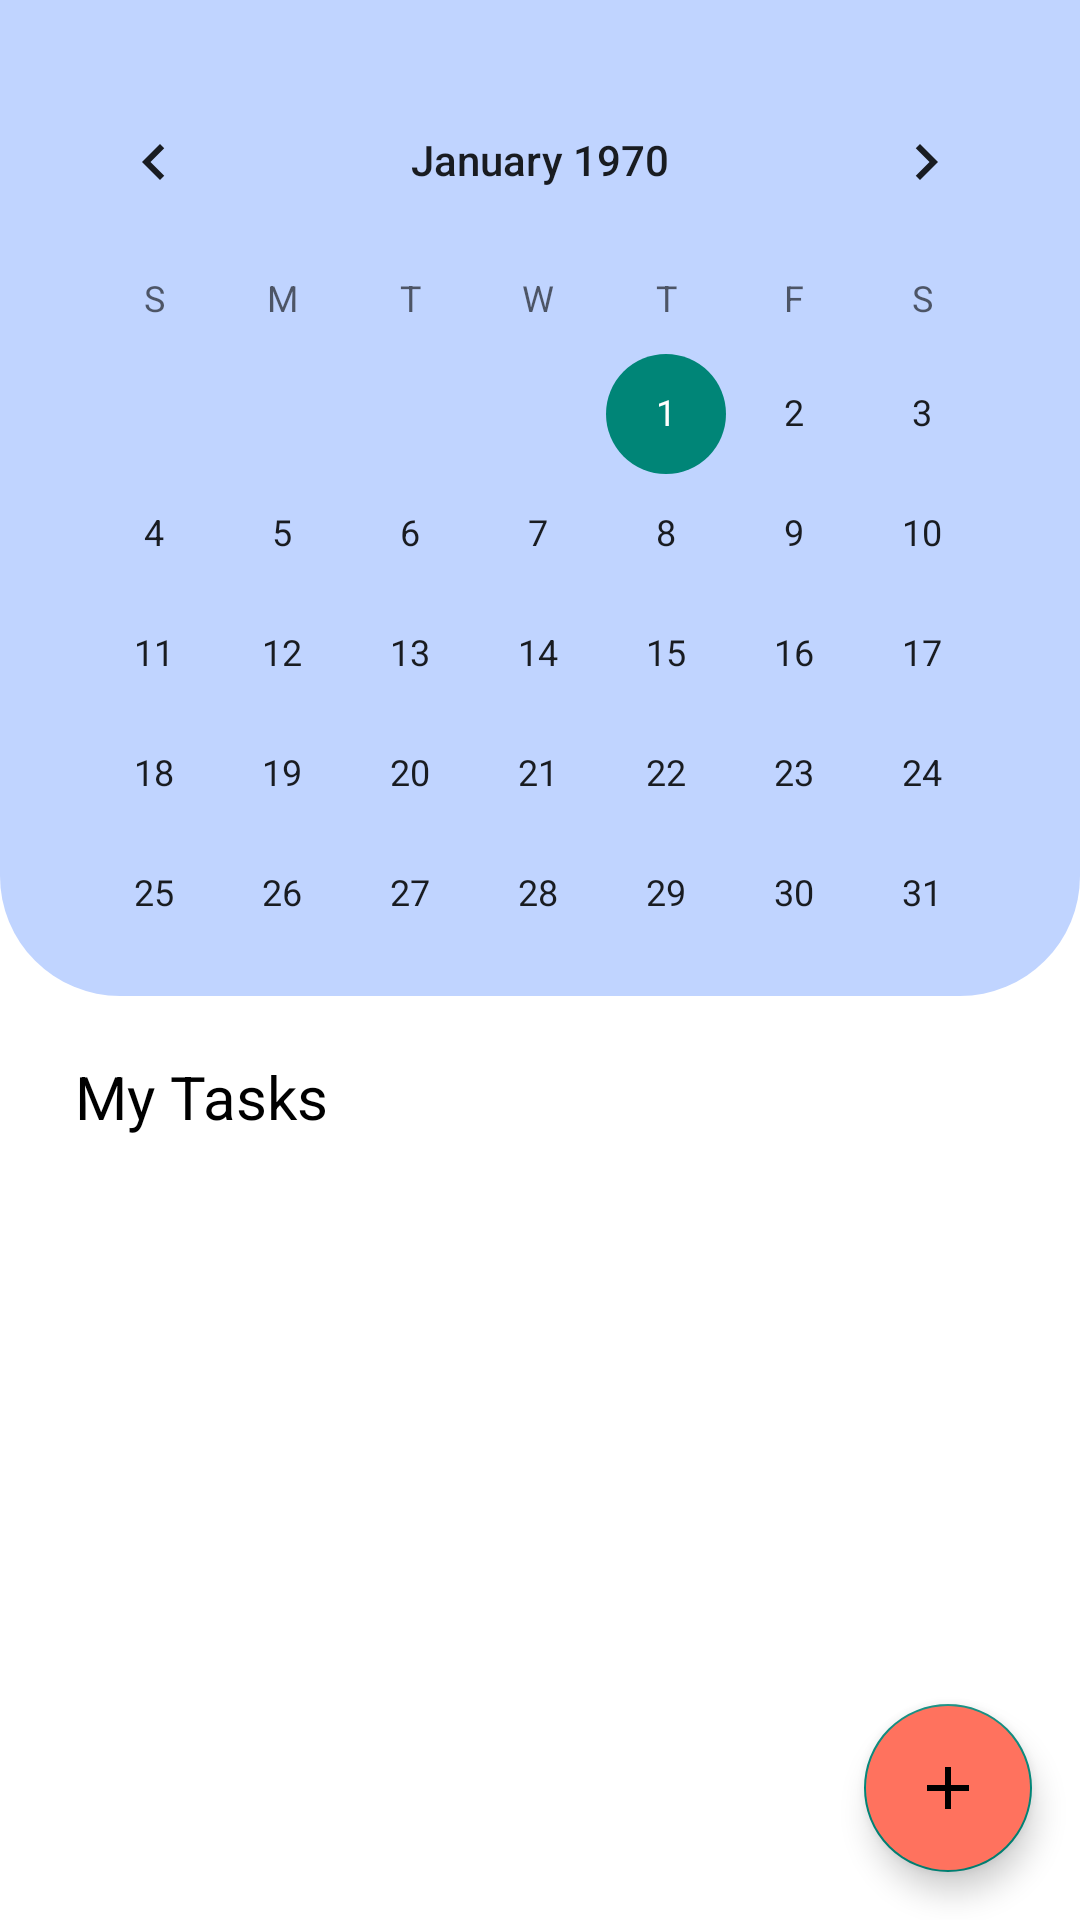

Screen size 1080px×1920px. Icon name, then its center in pixels as (x=x, y=y):
Add Task: (x=948, y=1788)
